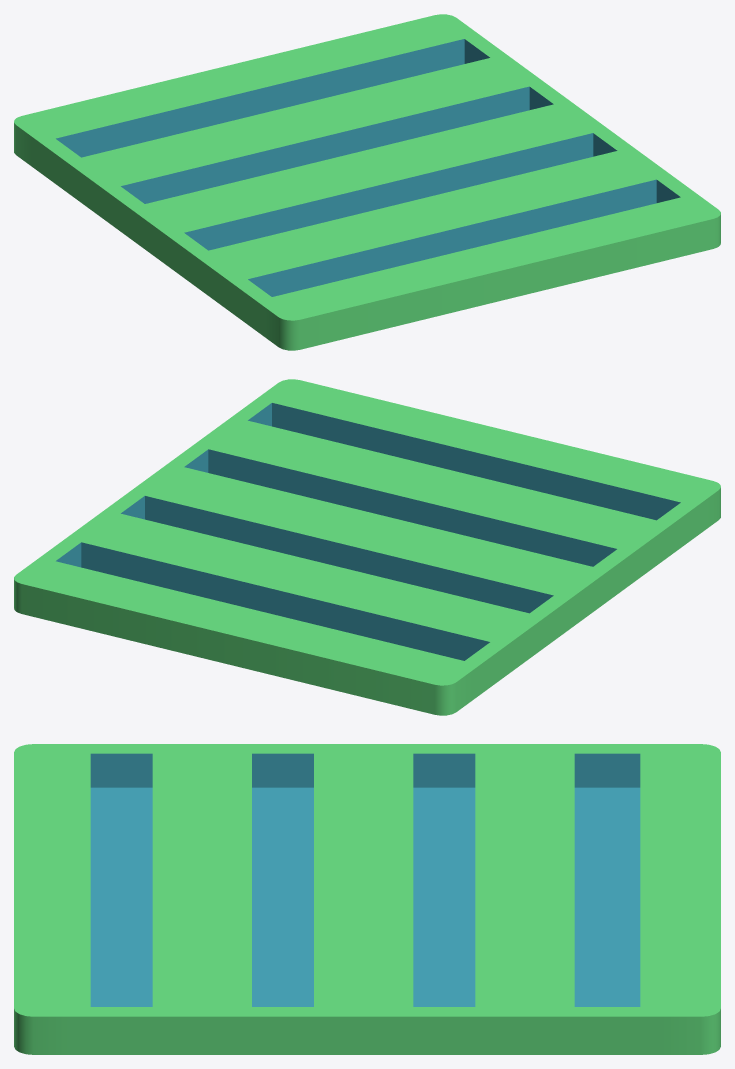
File: Espresso_Stand.fbx
The picture shows the model from 3 angles, top to bottom: view 1: azimuth 30°, elevation 25°; view 2: azimuth 150°, elevation 25°; view 3: azimuth 270°, elevation 25°; orthographic projection. The views are drawn at different scales.
Visible parts, largest first — view 1: Plane.001; view 2: Plane.001; view 3: Plane.001.
Part boxes in pixels (x1=…): Plane.001: x1=14, y1=14, x2=720, y2=350; Plane.001: x1=14, y1=379, x2=720, y2=715; Plane.001: x1=14, y1=744, x2=720, y2=1054.
Bounding box in the file's own units: 14.45 × 0.9439 × 15.83.
